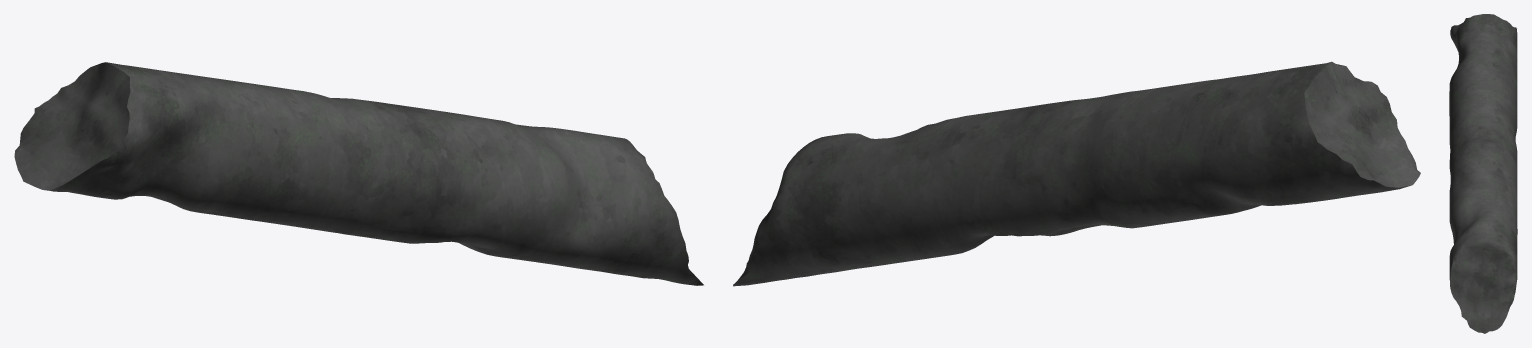
Rendered from Stone Pillar - Broken Pillar (Game Ready).fbx.
The picture shows the model from 3 angles, left to right: view 1: azimuth 30°, elevation 25°; view 2: azimuth 150°, elevation 25°; view 3: azimuth 270°, elevation 25°; orthographic projection. The views are drawn at different scales.
Visible parts, largest first — view 1: Stone Pillar - Broken Pillar; view 2: Stone Pillar - Broken Pillar; view 3: Stone Pillar - Broken Pillar.
Part boxes in pixels (bbox=[...]): Stone Pillar - Broken Pillar: bbox=[14, 62, 703, 285]; Stone Pillar - Broken Pillar: bbox=[733, 61, 1420, 286]; Stone Pillar - Broken Pillar: bbox=[1449, 14, 1517, 333].
Bounding box in the file's own units: 453 × 230 × 79.55.
Materials: 1 (1 with a texture image).
